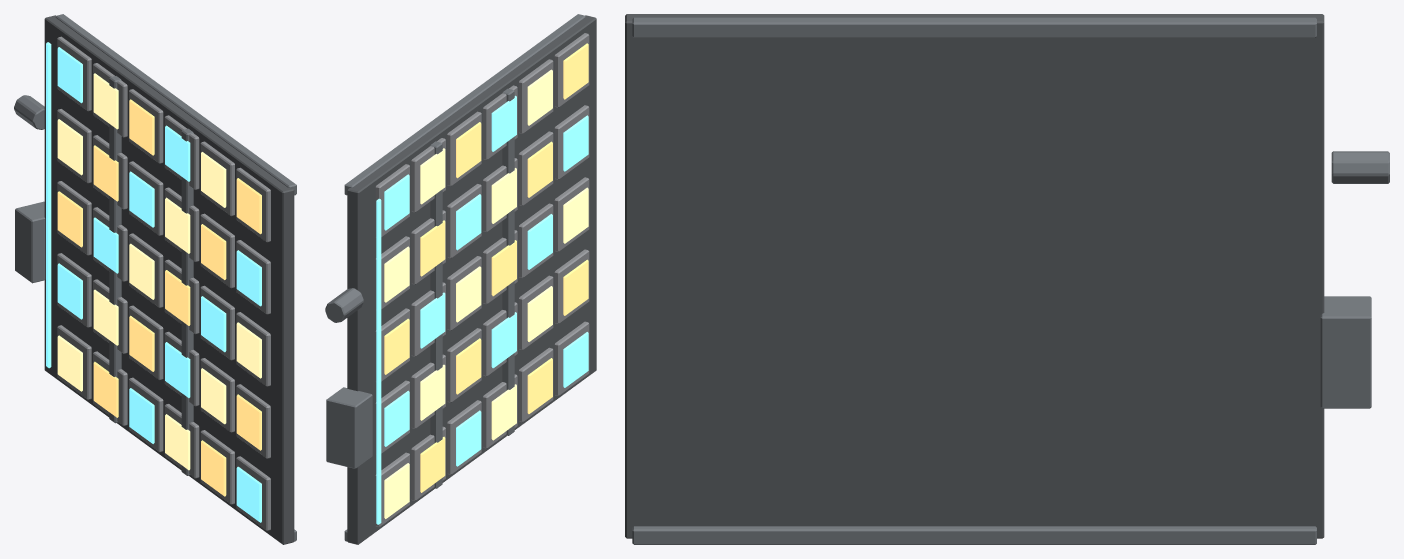
File: facade_windowed_r.glb
The picture shows the model from 3 angles, left to right: view 1: azimuth 30°, elevation 25°; view 2: azimuth 150°, elevation 25°; view 3: azimuth 270°, elevation 25°; orthographic projection. The views are drawn at different scales.
Visible parts, largest first — view 1: FacadeWindowed_R; view 2: FacadeWindowed_R; view 3: FacadeWindowed_R.
Part boxes in pixels (<box>): FacadeWindowed_R: <box>14,14,296,544</box>; FacadeWindowed_R: <box>325,14,596,544</box>; FacadeWindowed_R: <box>625,14,1389,544</box>.
Bounding box in the file's own units: 0.355 × 3.96 × 5.25.
